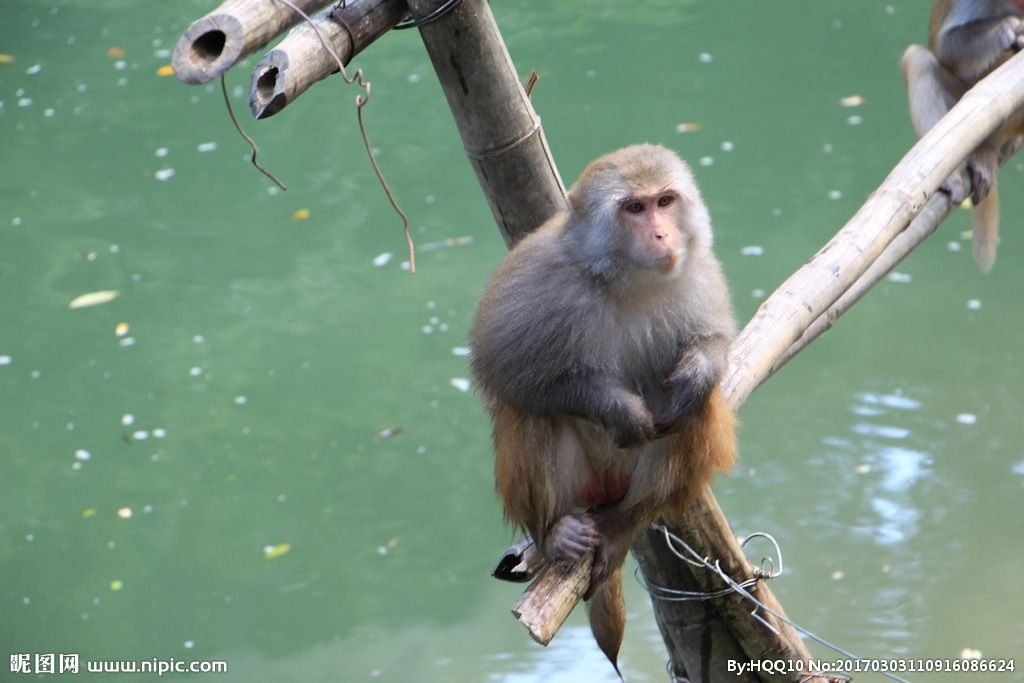monkey: (446, 150, 770, 578)
